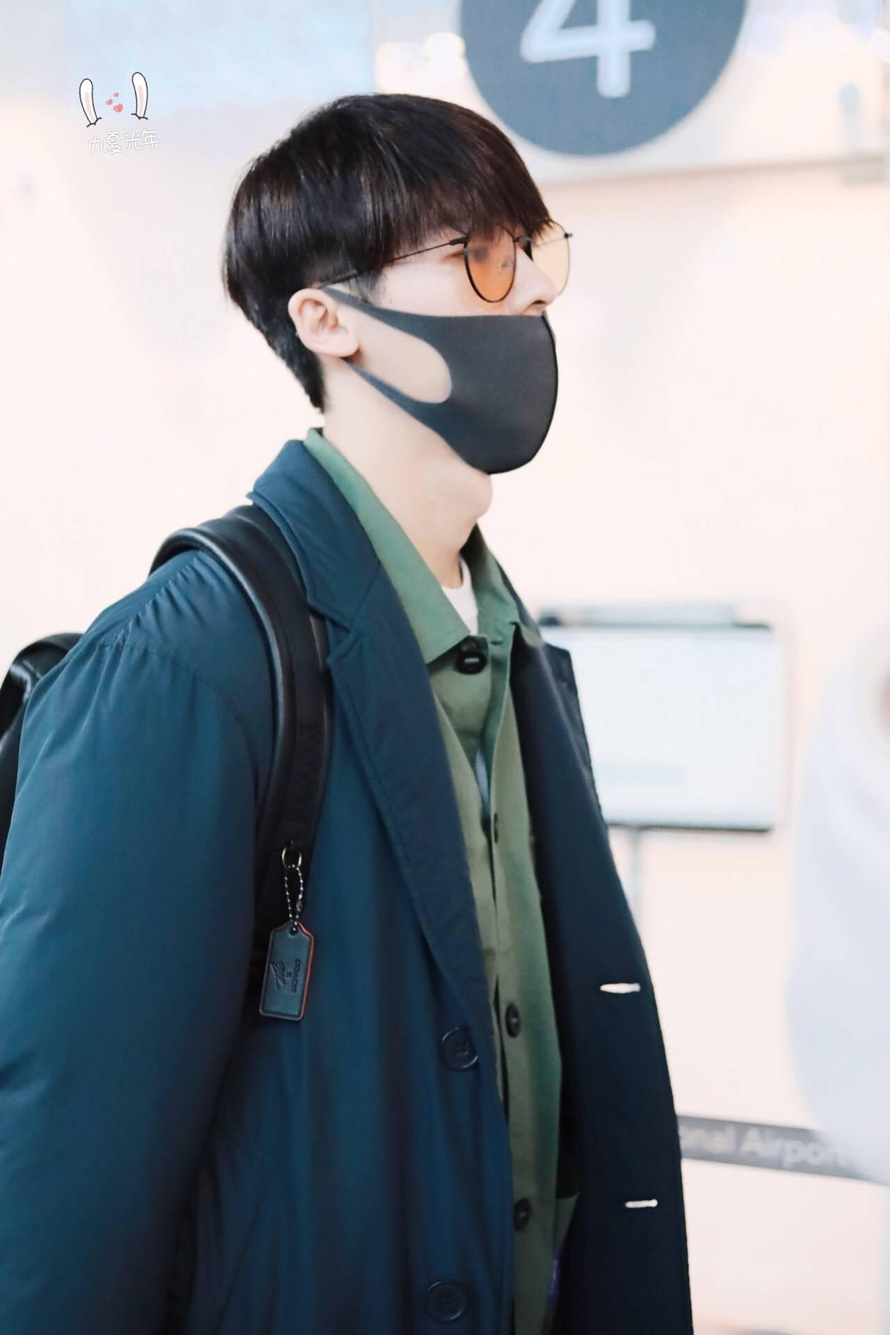WRONG: (395, 215, 565, 464)
